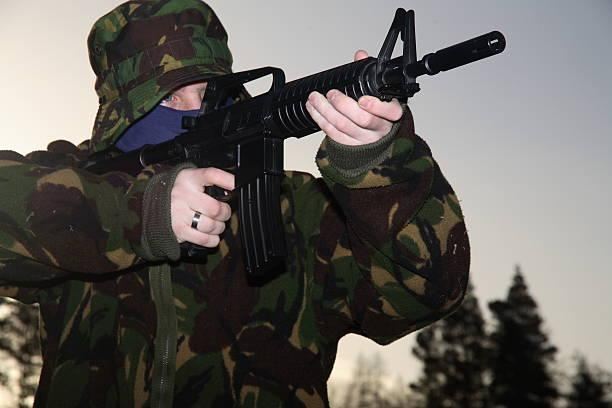larga: (84, 8, 506, 285)
